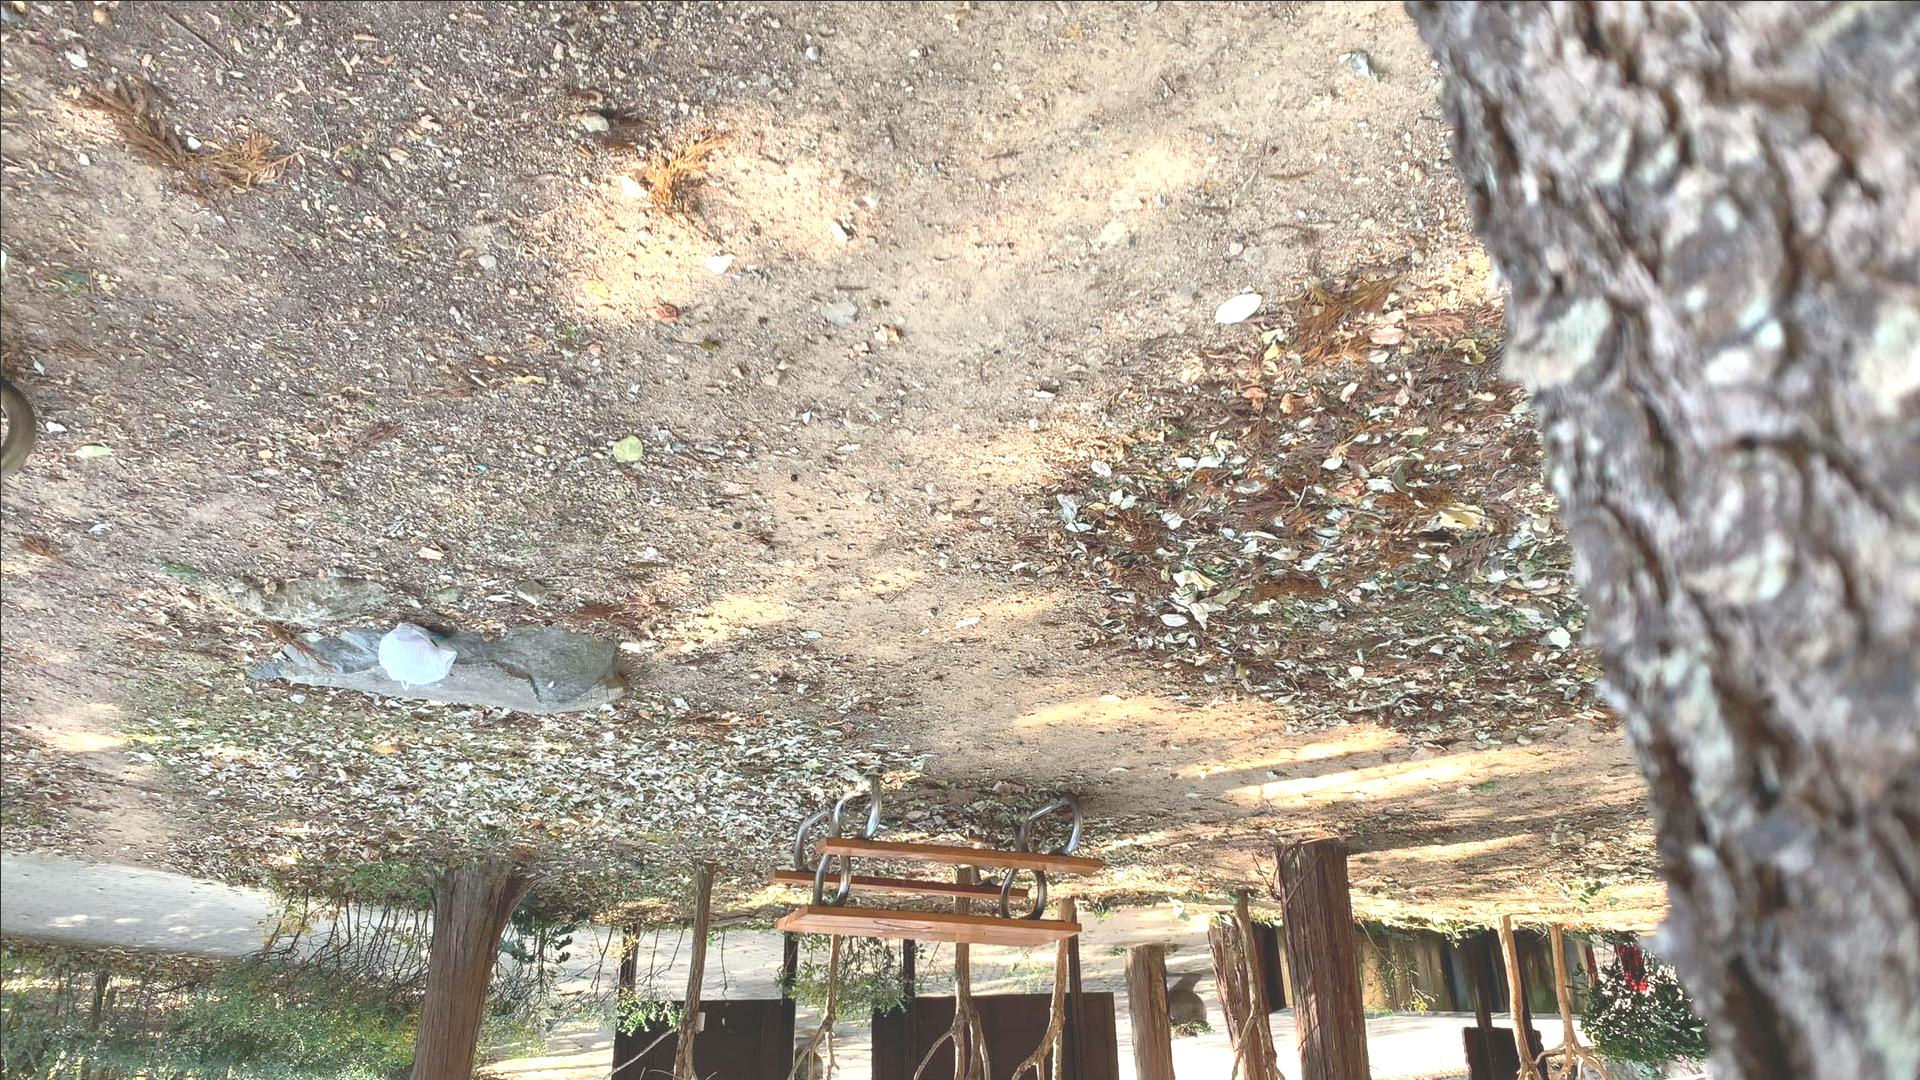white_bag: (372, 616, 464, 694)
